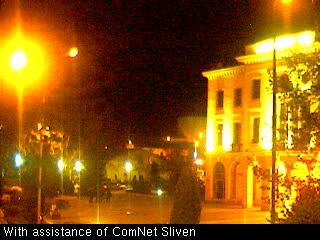person: (106, 190, 113, 204), (89, 189, 95, 204), (100, 190, 106, 203)
